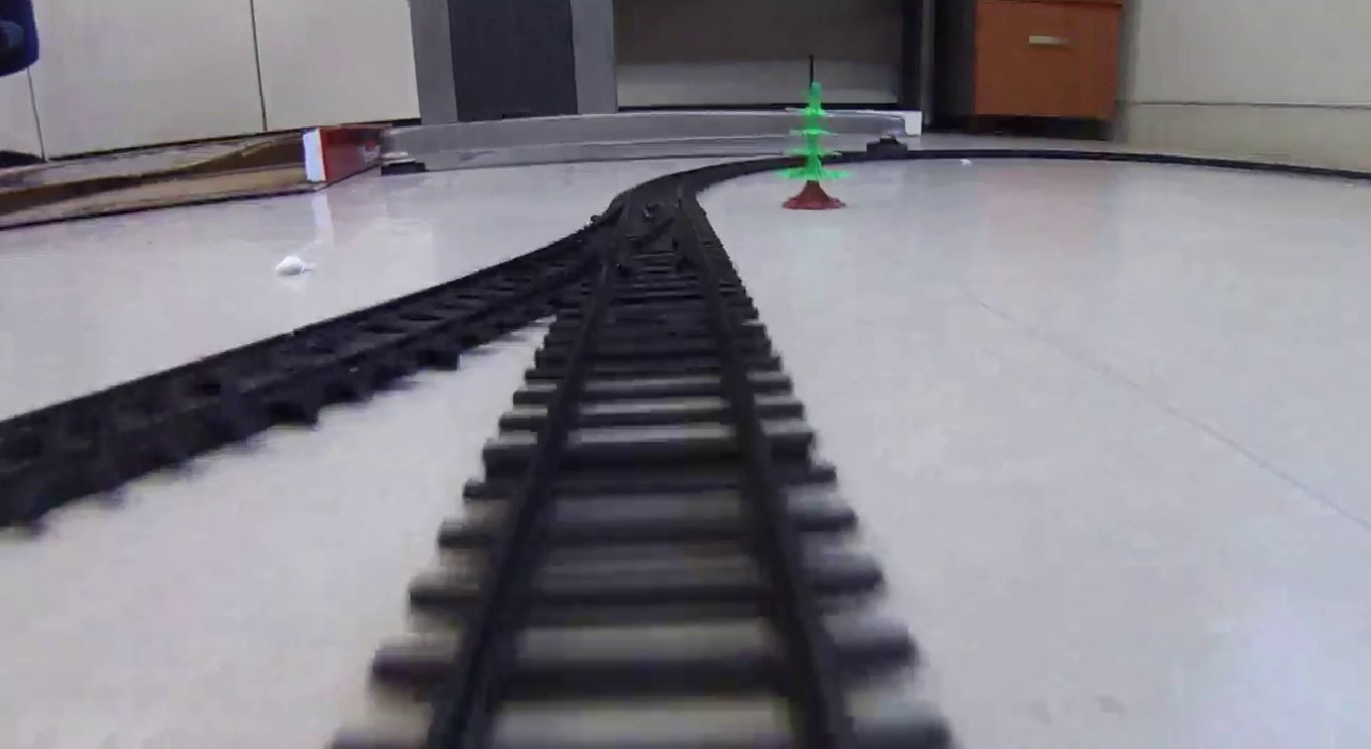tree: (776, 83, 850, 209)
